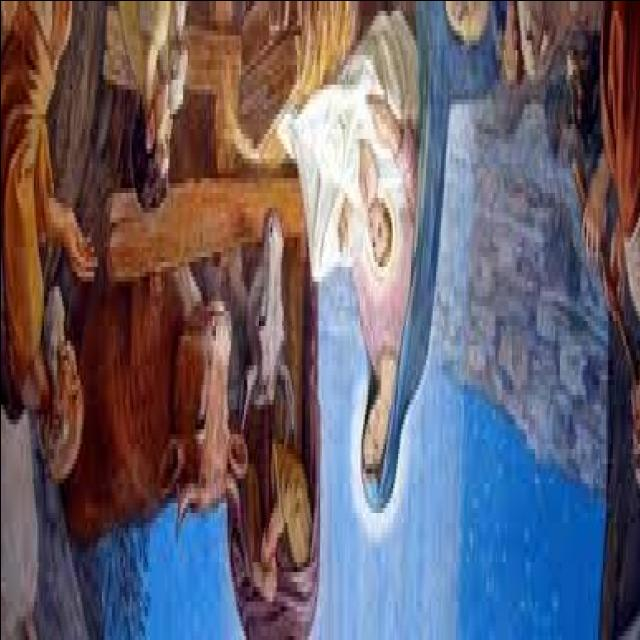mother of god: (296, 2, 460, 558)
